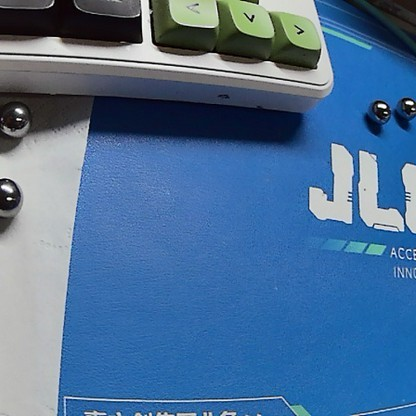ironball: (0, 96, 52, 140), (0, 178, 23, 224), (365, 96, 395, 130), (392, 87, 414, 120)
